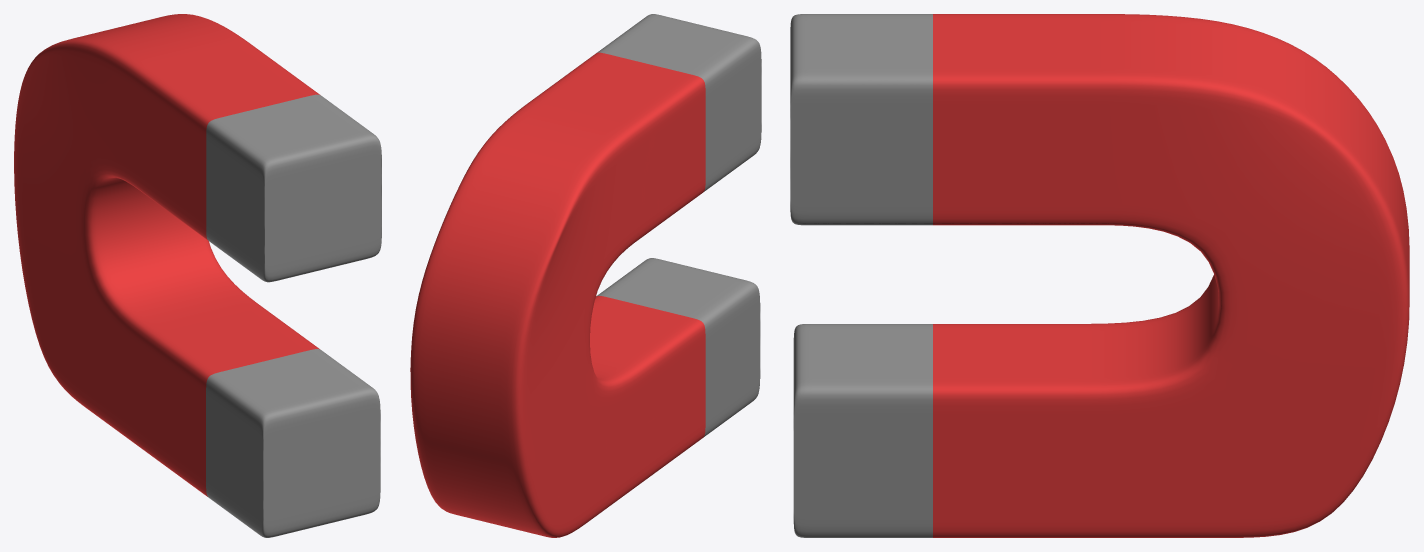
The model's file is iman.fbx.
The picture shows the model from 3 angles, left to right: view 1: azimuth 30°, elevation 25°; view 2: azimuth 150°, elevation 25°; view 3: azimuth 270°, elevation 25°; orthographic projection. The views are drawn at different scales.
Parts seen in each view (by area): view 1: Cube; view 2: Cube; view 3: Cube.
Part boxes in pixels (box(x1,y1,x2,y2)): Cube: box(14, 14, 381, 537); Cube: box(410, 14, 761, 537); Cube: box(790, 14, 1409, 537).
Size of the model in its own units: 106 by 309 by 376.
